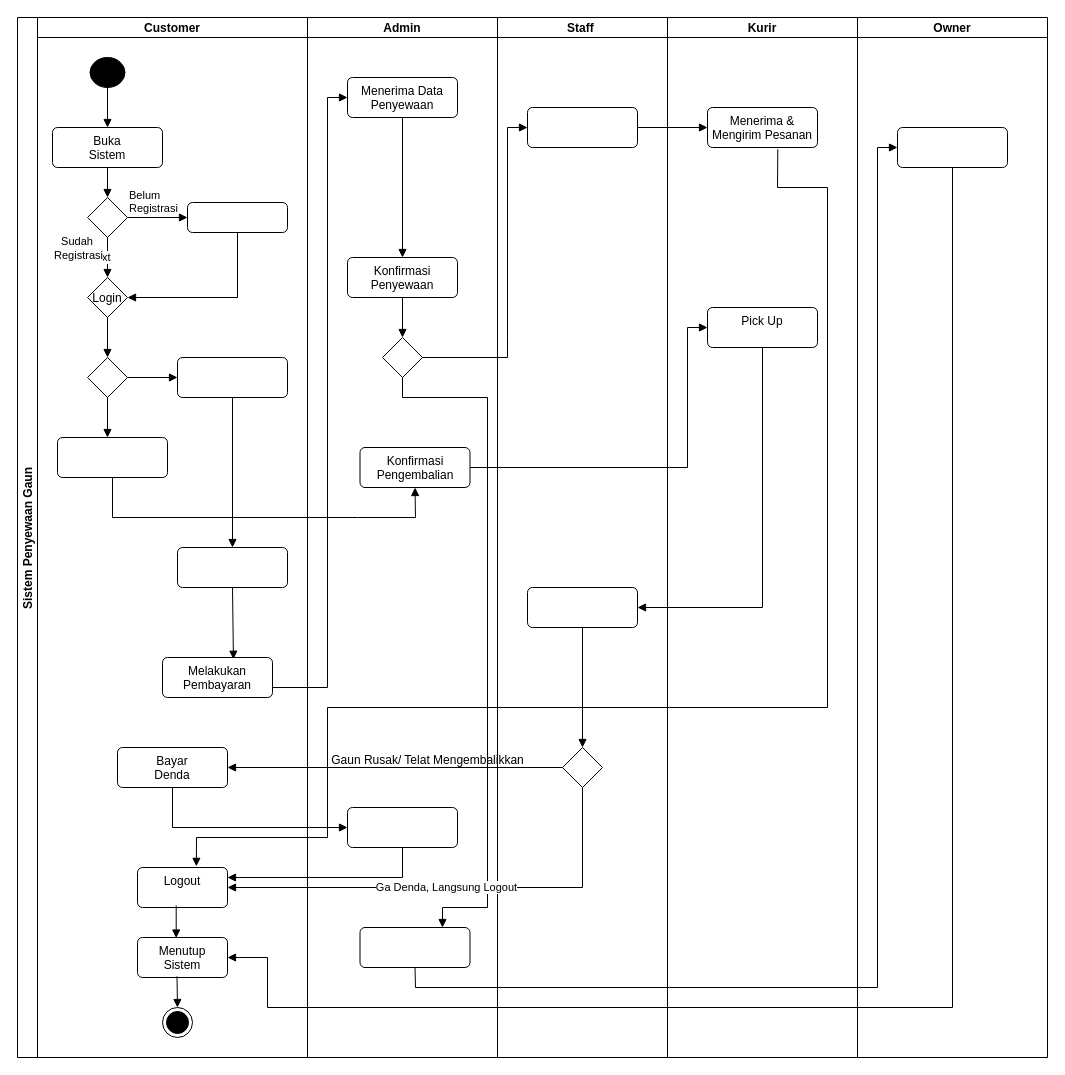
This 1065x1075 diagram has some shape labels left out. Here are the shapes that lost their labels. From the top down, the centre of each, then its label:
At pixel 582 127: "Membuat Pesanan".
At pixel 952 147: "Menerima Laporan".
At pixel 237 217: "Registrasi".
At pixel 232 377: "Cari / Lihat Gaun".
At pixel 112 457: "Pengembalian Gaun".
At pixel 232 567: "Penyewaan".
At pixel 582 607: "Cek Gaun".
At pixel 402 827: "Terima Denda".
At pixel 414 947: "Membuat Laporan".
